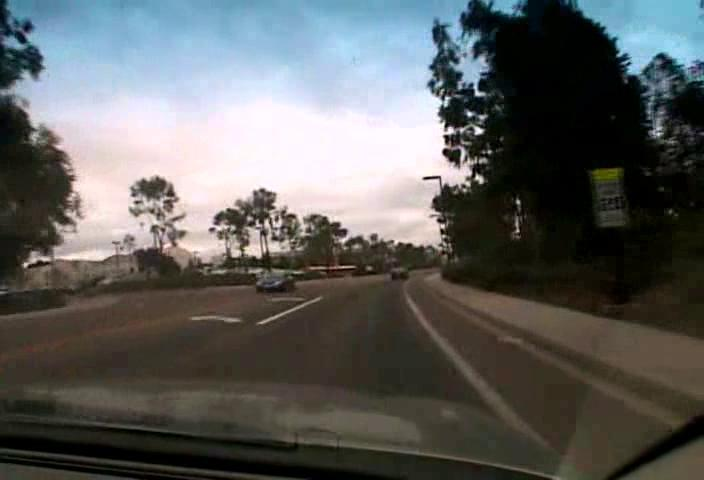schoolSpeedLimit25: (592, 166, 626, 226)
